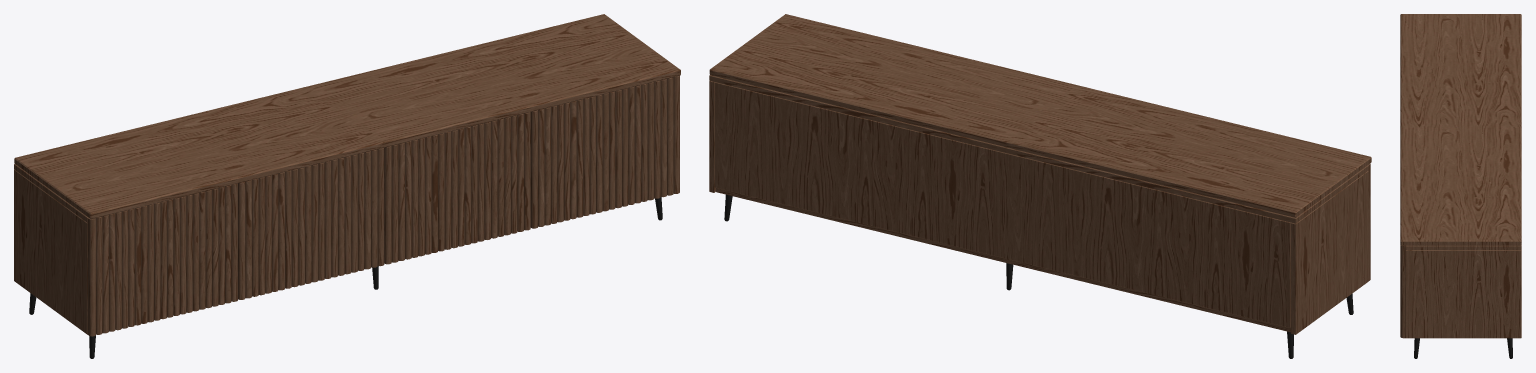
Rendered from mueble_tv_nogal_200.glb.
3 views of the same model, side by side, from view 1: azimuth 30°, elevation 25°; view 2: azimuth 150°, elevation 25°; view 3: azimuth 270°, elevation 25° (orthographic). The views are drawn at different scales.
Visible parts, largest first — view 1: mueble_tv_nogal_200; view 2: mueble_tv_nogal_200; view 3: mueble_tv_nogal_200.
Part boxes in pixels (x1,y1,x2,y2): mueble_tv_nogal_200: (14,14,680,358); mueble_tv_nogal_200: (709,14,1371,358); mueble_tv_nogal_200: (1400,14,1521,358).
Bounding box in the file's own units: 2 × 0.5003 × 0.45.
Materials: 2 (1 with a texture image).
